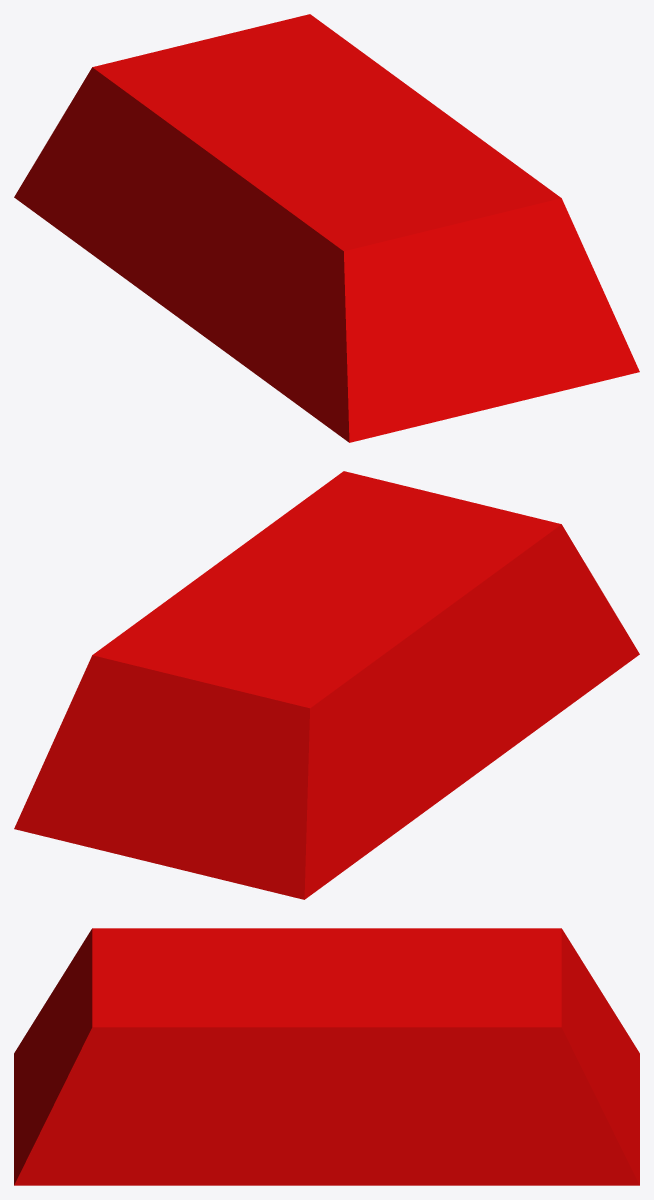
File: ingot.fbx
The picture shows the model from 3 angles, top to bottom: view 1: azimuth 30°, elevation 25°; view 2: azimuth 150°, elevation 25°; view 3: azimuth 270°, elevation 25°; orthographic projection. The views are drawn at different scales.
Parts seen in each view (by area): view 1: ingot_low.001; view 2: ingot_low.001; view 3: ingot_low.001.
Boxes of the visible parts, x1,y1,x2,y2 form: ingot_low.001: (14,14,639,442); ingot_low.001: (14,471,639,899); ingot_low.001: (14,928,639,1185).
Bounding box in the file's own units: 10 × 5 × 20.
